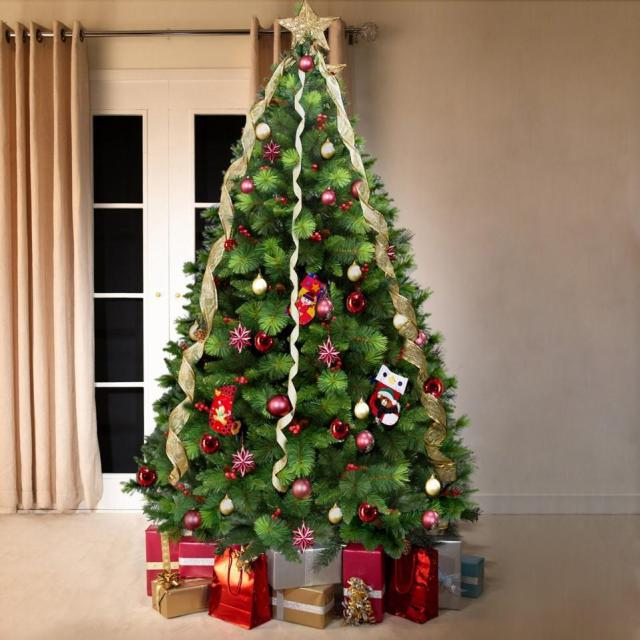Christmas-tree: (110, 3, 491, 528)
